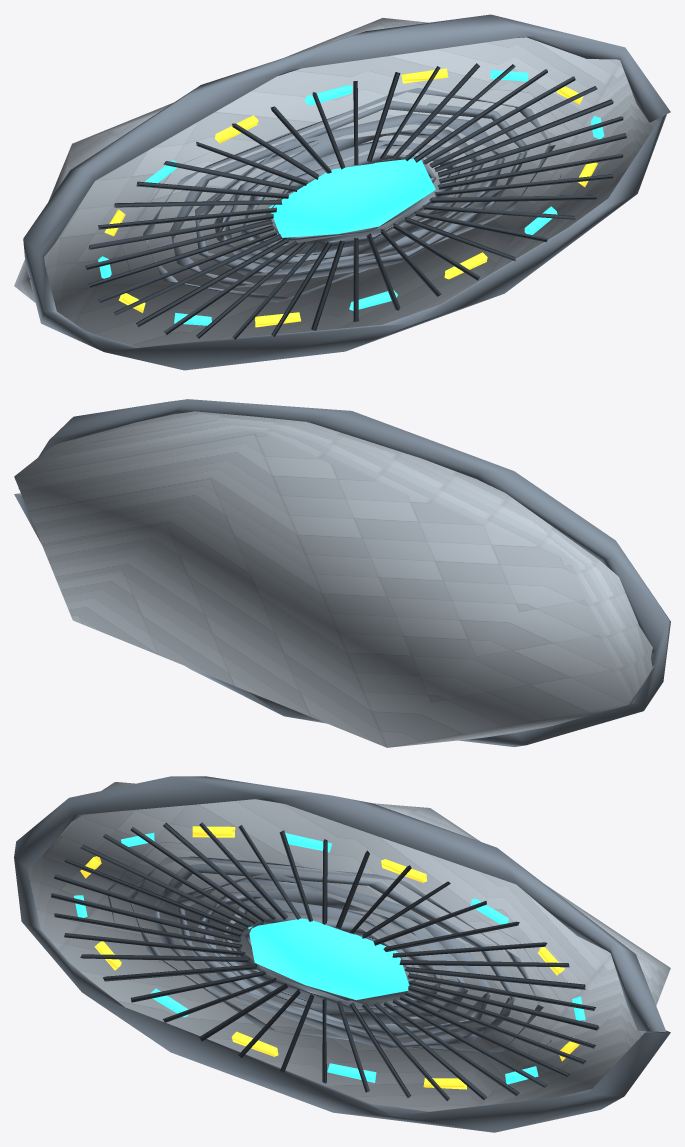
The model's file is Deflector_Segmented_survey_LOD1.fbx.
3 views of the same model, one above another, from view 1: azimuth 30°, elevation 25°; view 2: azimuth 150°, elevation 25°; view 3: azimuth 330°, elevation 25° (orthographic).
Parts seen in each view (by area): view 1: Deflector_Segmented_survey_LOD1; view 2: Deflector_Segmented_survey_LOD1; view 3: Deflector_Segmented_survey_LOD1.
Boxes of the visible parts, x1=… form: Deflector_Segmented_survey_LOD1: x1=14, y1=14, x2=670, y2=370; Deflector_Segmented_survey_LOD1: x1=14, y1=399, x2=670, y2=747; Deflector_Segmented_survey_LOD1: x1=14, y1=776, x2=670, y2=1132.
Bounding box in the file's own units: 9451 × 4381 × 1061.
5 materials, 1 textured.
